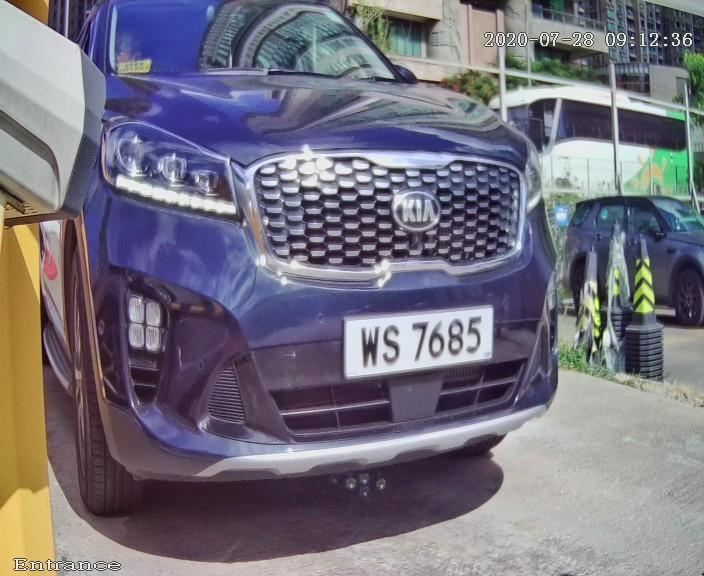privatecar: (5, 1, 604, 525)
